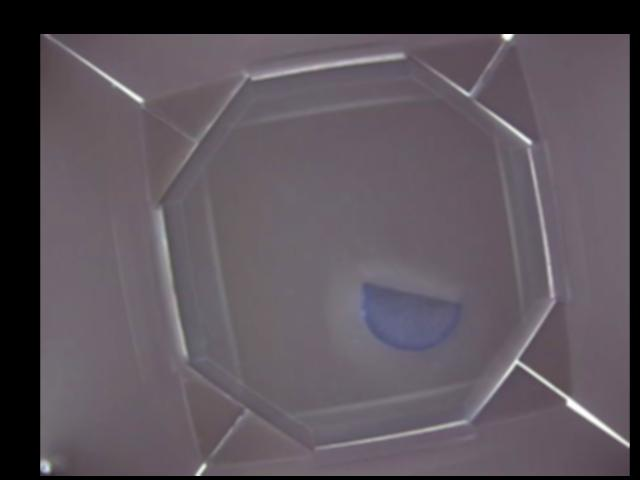Mooli: (360, 280, 461, 350)
